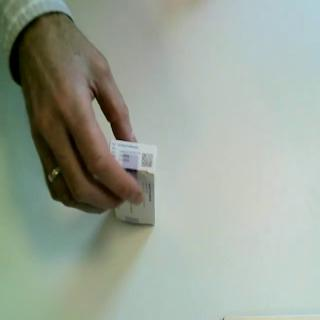imovane7-5mg: (109, 138, 158, 227)
